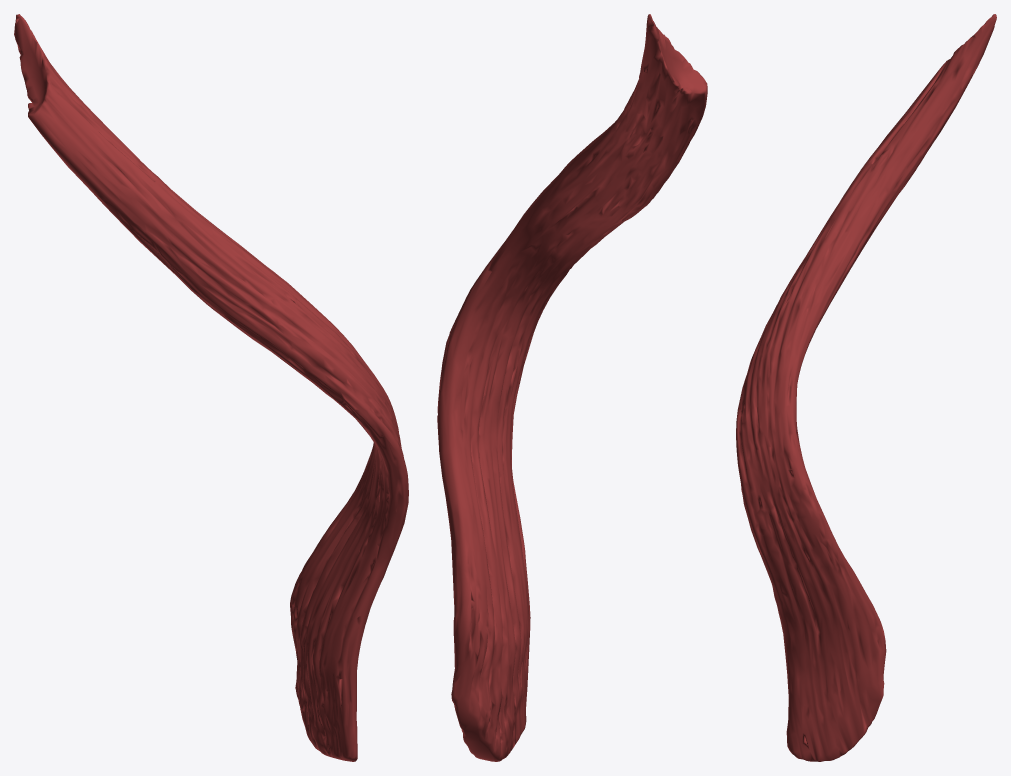
The model's file is stylopharyngeus-muscle-r.glb.
3 renders of one model, left to right at view 1: azimuth 30°, elevation 25°; view 2: azimuth 150°, elevation 25°; view 3: azimuth 270°, elevation 25°, orthographic. The views are drawn at different scales.
Parts seen in each view (by area): view 1: Stylopharyngeus muscle.r; view 2: Stylopharyngeus muscle.r; view 3: Stylopharyngeus muscle.r.
Part boxes in pixels (x1,y1,x2,y2): Stylopharyngeus muscle.r: (14,14,408,761); Stylopharyngeus muscle.r: (437,14,707,761); Stylopharyngeus muscle.r: (736,14,996,761).
Size of the model in its own units: 0.0277 by 0.0667 by 0.0243.
